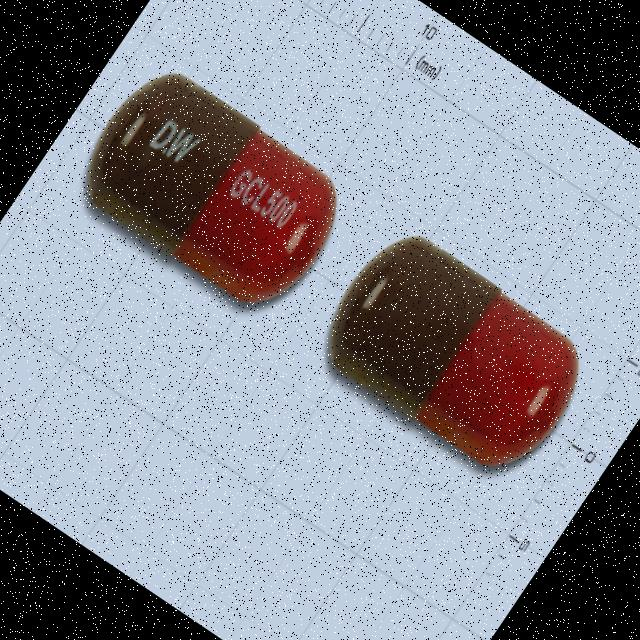Gomcillin Cap -250mg: (61, 51, 363, 332), (306, 218, 603, 492)
